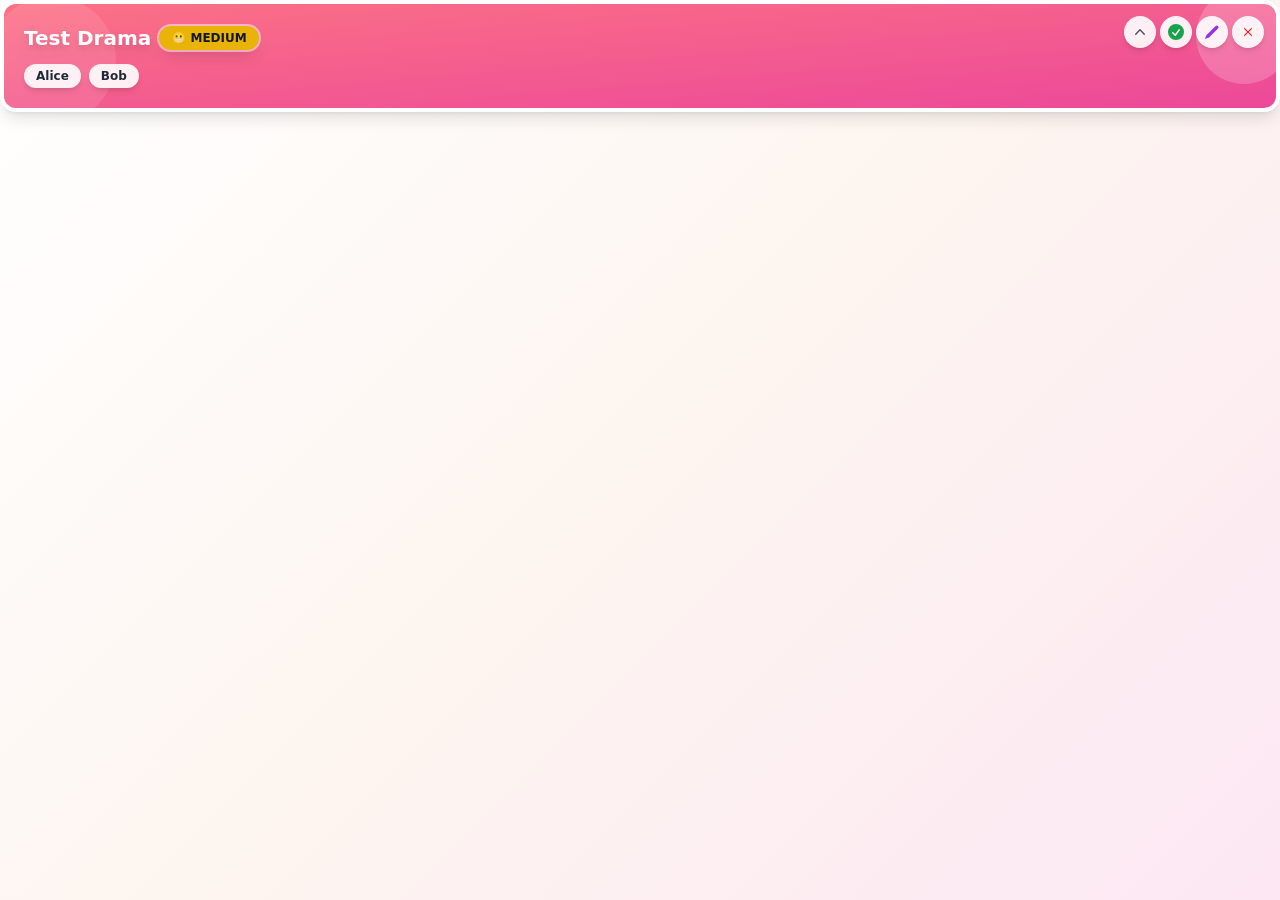
Test: DramaCard › should hide details when collapsed via toggle button
// First expand
Click the button titled "Expand".
click(1140, 32)  # box [1124, 16, 1156, 48]
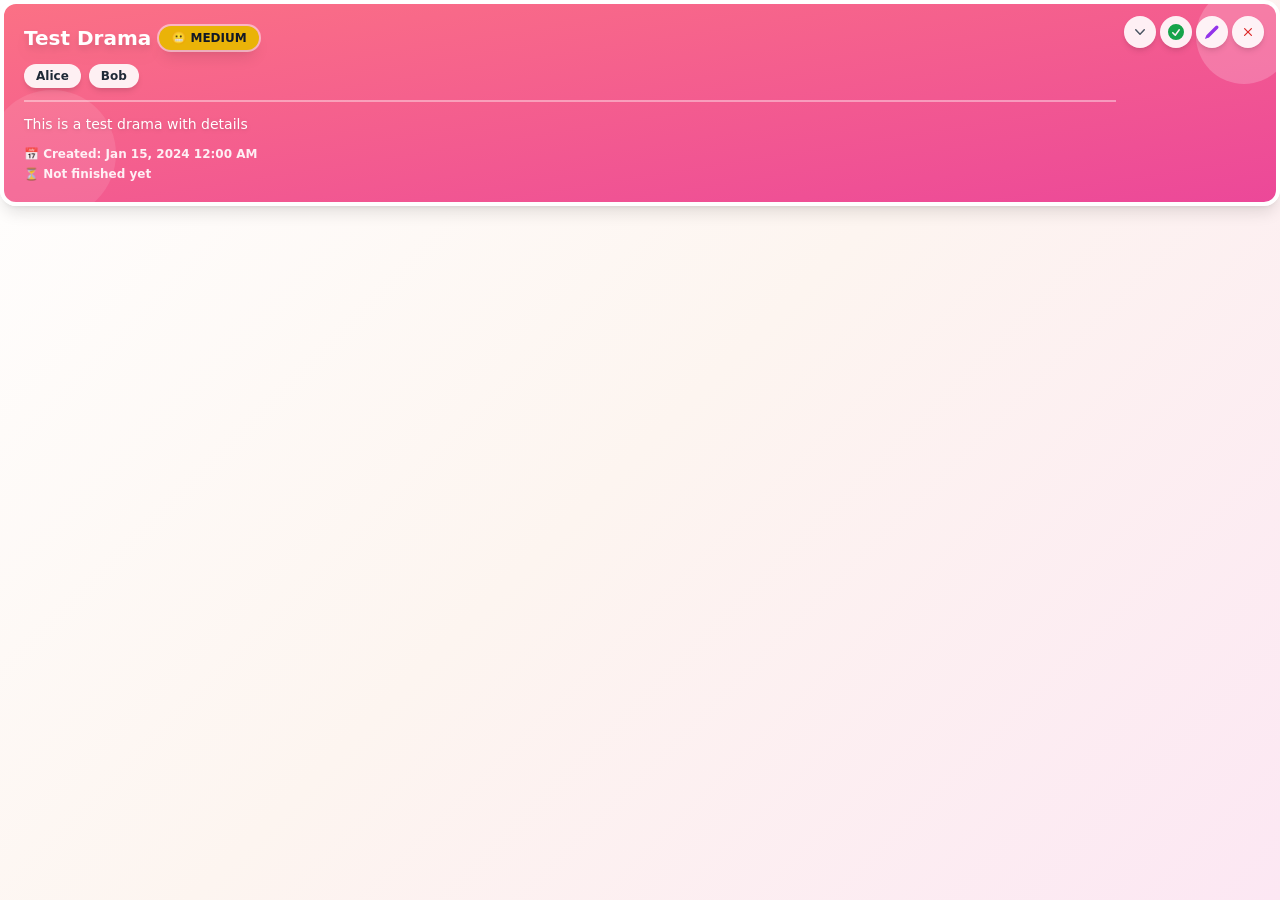
Expected: the text "This is a test drama with details" is shown, [24, 116, 248, 132]
// Then collapse
Click the button titled "Collapse".
click(1140, 32)  # box [1124, 16, 1156, 48]
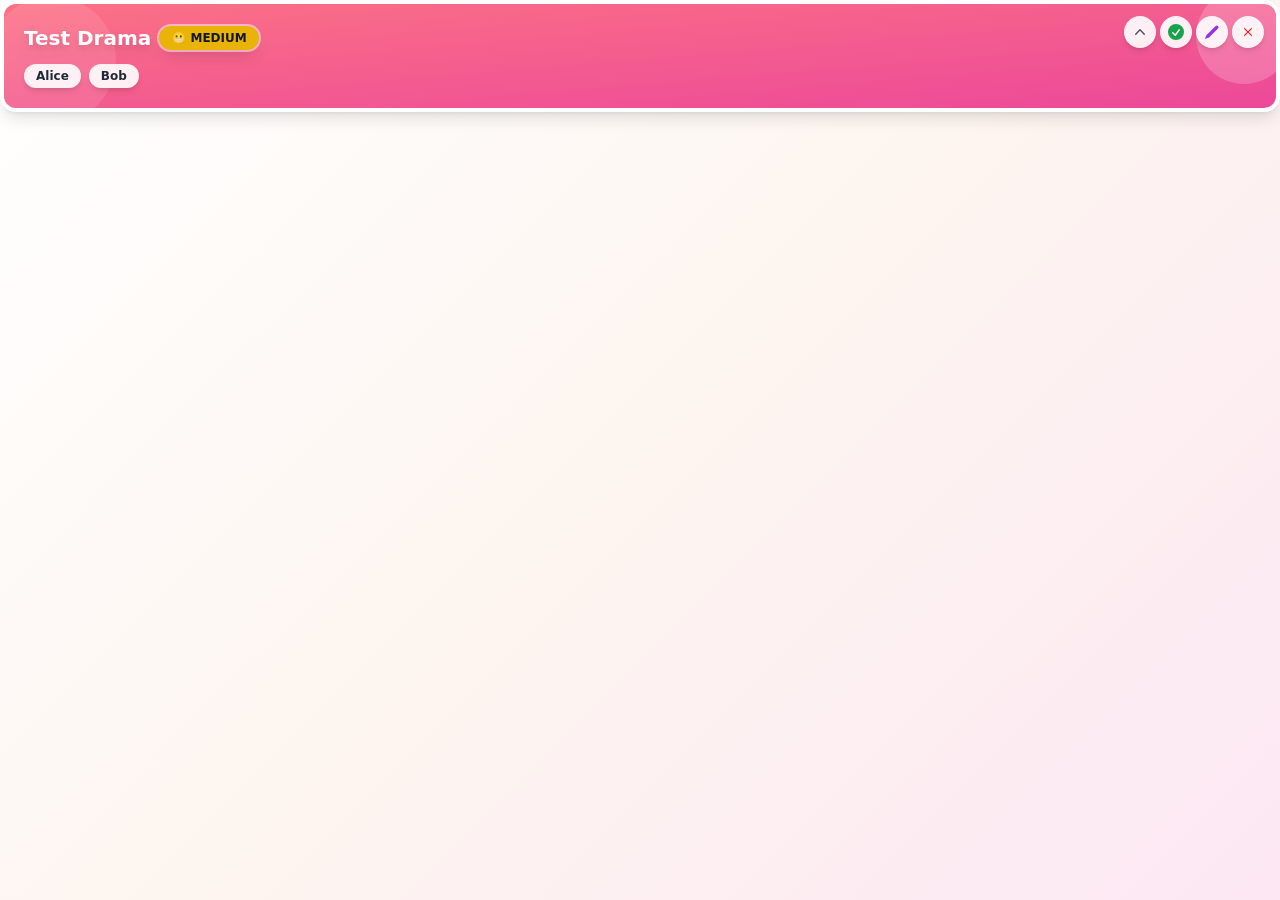
Expected: the text "This is a test drama with details" is gone
